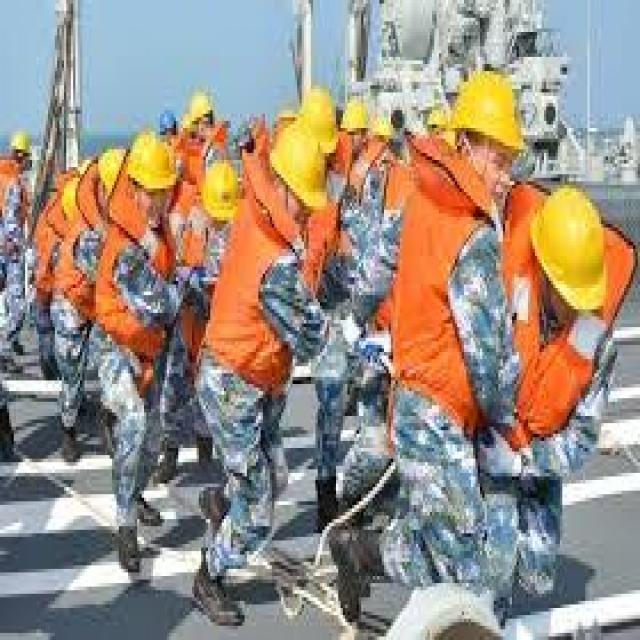Reflective-Jacket: (372, 142, 500, 438), (0, 156, 30, 256)
Safety-Helmet: (524, 174, 620, 324), (432, 53, 537, 171), (263, 107, 336, 224), (121, 121, 183, 203), (196, 156, 247, 228), (336, 89, 382, 153), (178, 78, 220, 139), (7, 121, 39, 167)
